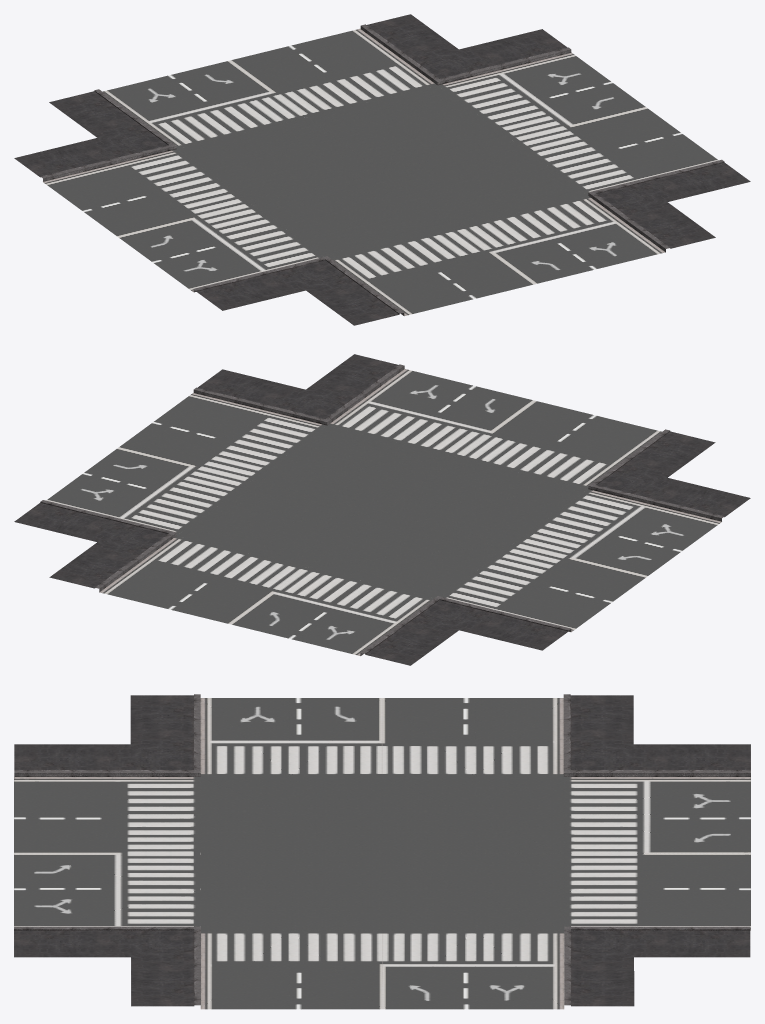
Rendered from 4 line cross intersection.FBX.
The picture shows the model from 3 angles, top to bottom: view 1: azimuth 30°, elevation 25°; view 2: azimuth 150°, elevation 25°; view 3: azimuth 270°, elevation 25°; orthographic projection. The views are drawn at different scales.
Visible parts, largest first — view 1: Object071; view 2: Object071; view 3: Object071.
Part boxes in pixels (bbox=[...]): Object071: bbox=[14, 14, 750, 325]; Object071: bbox=[14, 354, 750, 665]; Object071: bbox=[14, 694, 750, 1009].
Size of the model in its own units: 47.44 by 0.3187 by 47.45.
